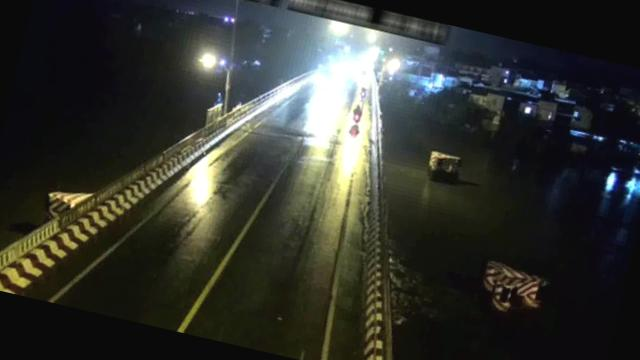Bike: (350, 103, 365, 126)
